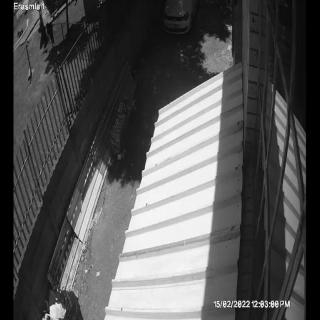car: (162, 0, 198, 34)
